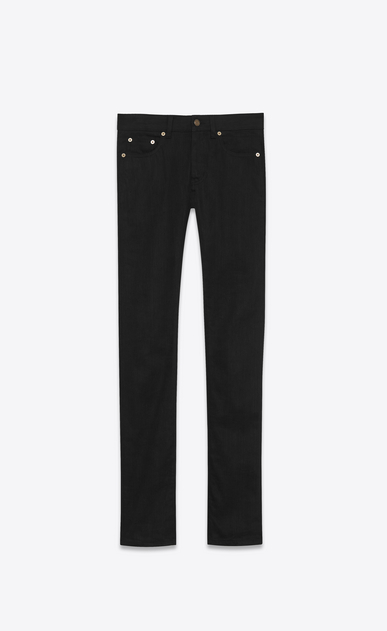jeans: (112, 109, 270, 549)
